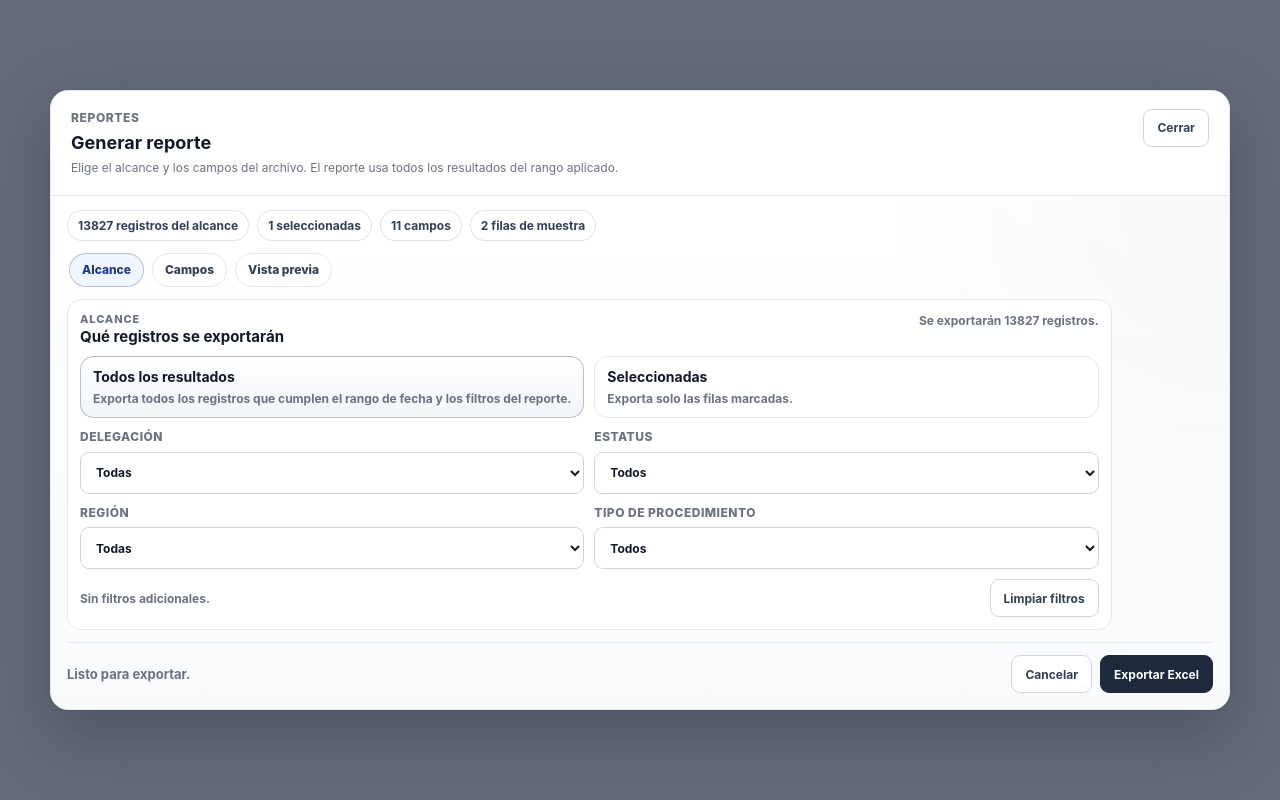
Scenario: InfraccionesReportModal exportacion Excel › mantiene Excel deshabilitado durante la consulta y muestra el error de disponibilidad
Expected: the text "13827 registros del alcance" is shown, [67,210,249,241]
Click the button "Seleccionadas Exporta solo las filas marcadas.".
click(657, 376)  # box [594,356,1099,418]
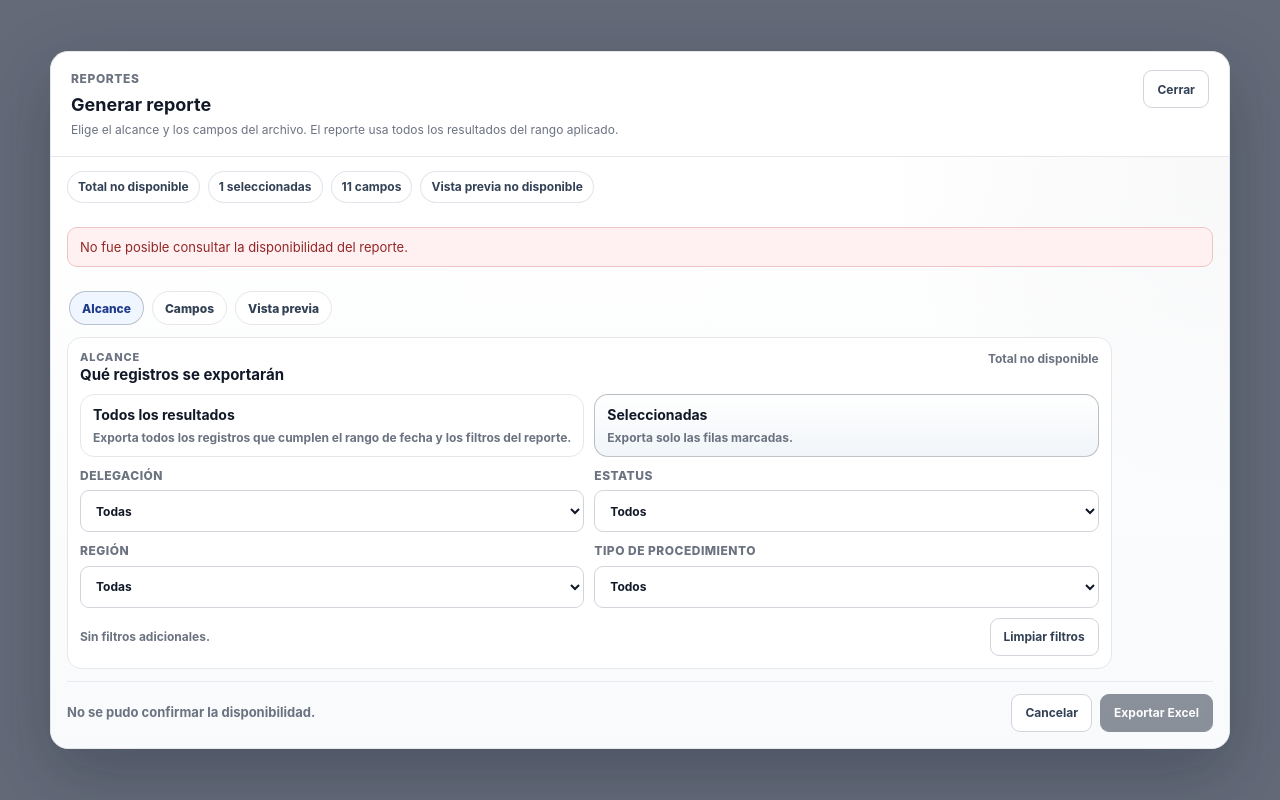
Result: the text "No fue posible consultar la disponibilidad del reporte." is shown at [67,227,1213,267]
Result: the button "Exportar Excel" is disabled at [1100,694,1213,732]
